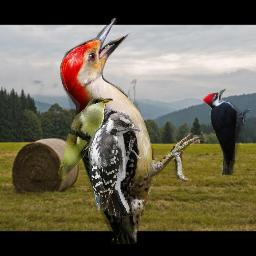Cuckoo: (57, 97, 113, 179)
Woodpecker: (60, 18, 209, 244), (88, 112, 142, 218), (201, 88, 250, 175)
